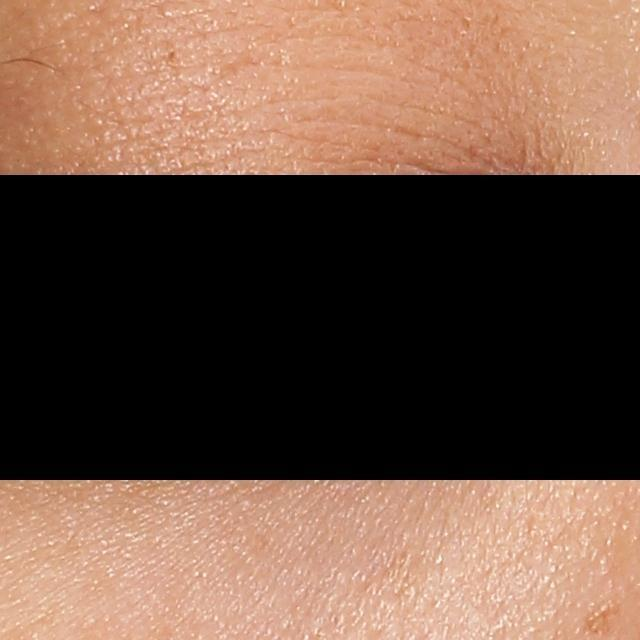melasma: (575, 598, 625, 640)
